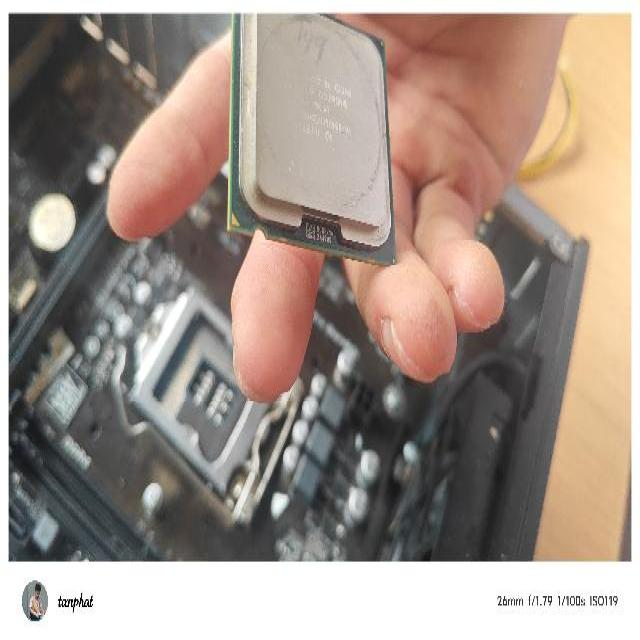CPU: (226, 12, 397, 264)
